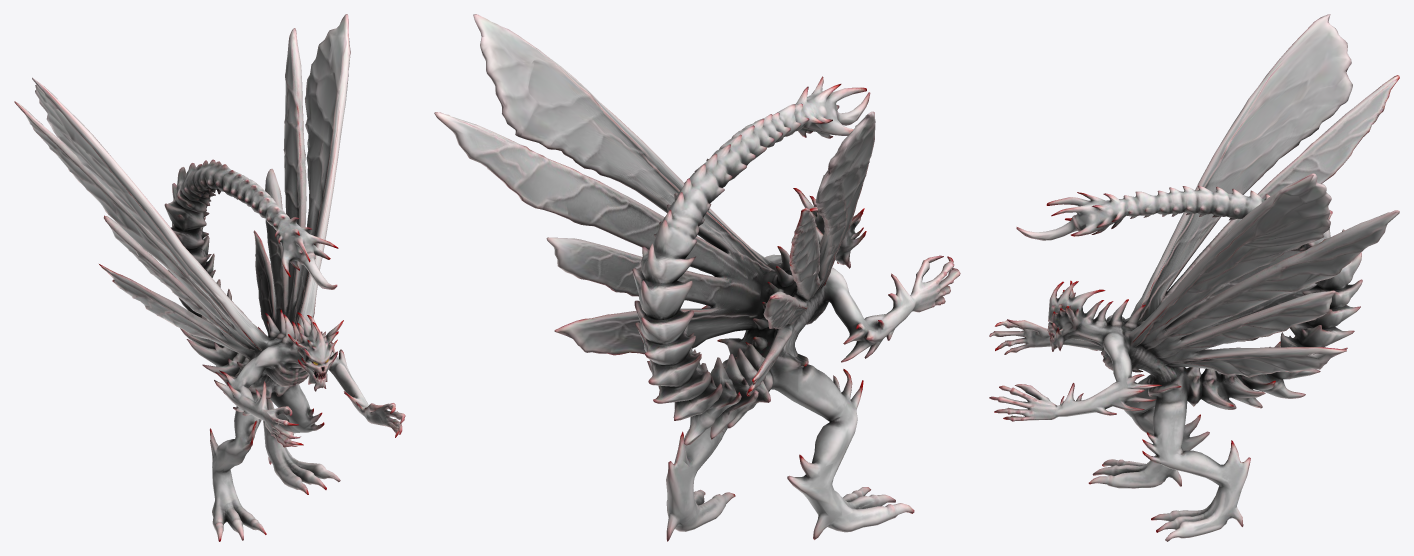
File: MZ4250 - Bone Devil.glb
3 views of the same model, side by side, from view 1: azimuth 30°, elevation 25°; view 2: azimuth 150°, elevation 25°; view 3: azimuth 270°, elevation 25° (orthographic). The views are drawn at different scales.
Parts seen in each view (by area): view 1: body_low.001; view 2: body_low.001; view 3: body_low.001.
Part boxes in pixels (x1=…): body_low.001: x1=14, y1=14, x2=405, y2=541; body_low.001: x1=434, y1=14, x2=960, y2=541; body_low.001: x1=989, y1=14, x2=1399, y2=541.
Size of the model in its own units: 5.07 by 6.35 by 5.69.
1 material, 1 textured.
